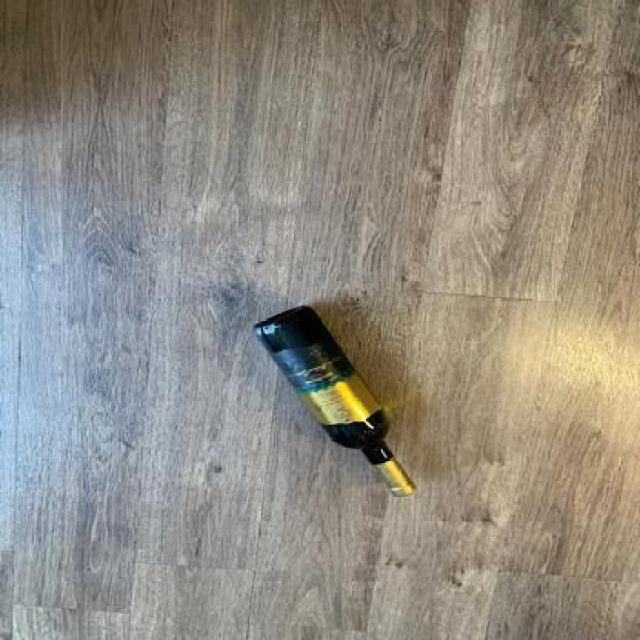trash: (249, 304, 428, 498)
